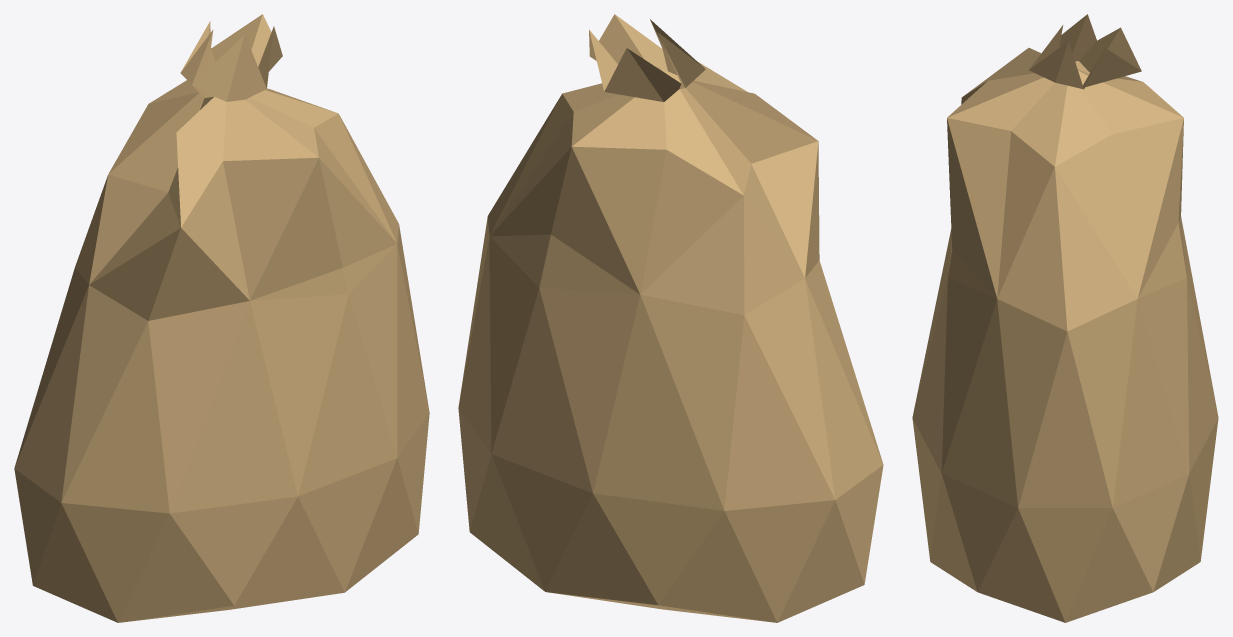
The model's file is Fertilizer-bag.fbx.
3 renders of one model, left to right at view 1: azimuth 30°, elevation 25°; view 2: azimuth 150°, elevation 25°; view 3: azimuth 270°, elevation 25°, orthographic. The views are drawn at different scales.
Parts seen in each view (by area): view 1: Icosphere; view 2: Icosphere; view 3: Icosphere.
Part boxes in pixels (left/top/right/bottom): Icosphere: left=14, top=14, right=429, bottom=622; Icosphere: left=458, top=14, right=883, bottom=622; Icosphere: left=912, top=14, right=1218, bottom=622.
Bounding box in the file's own units: 99.3 × 136 × 70.15.
Materials: 1 (1 with a texture image).
